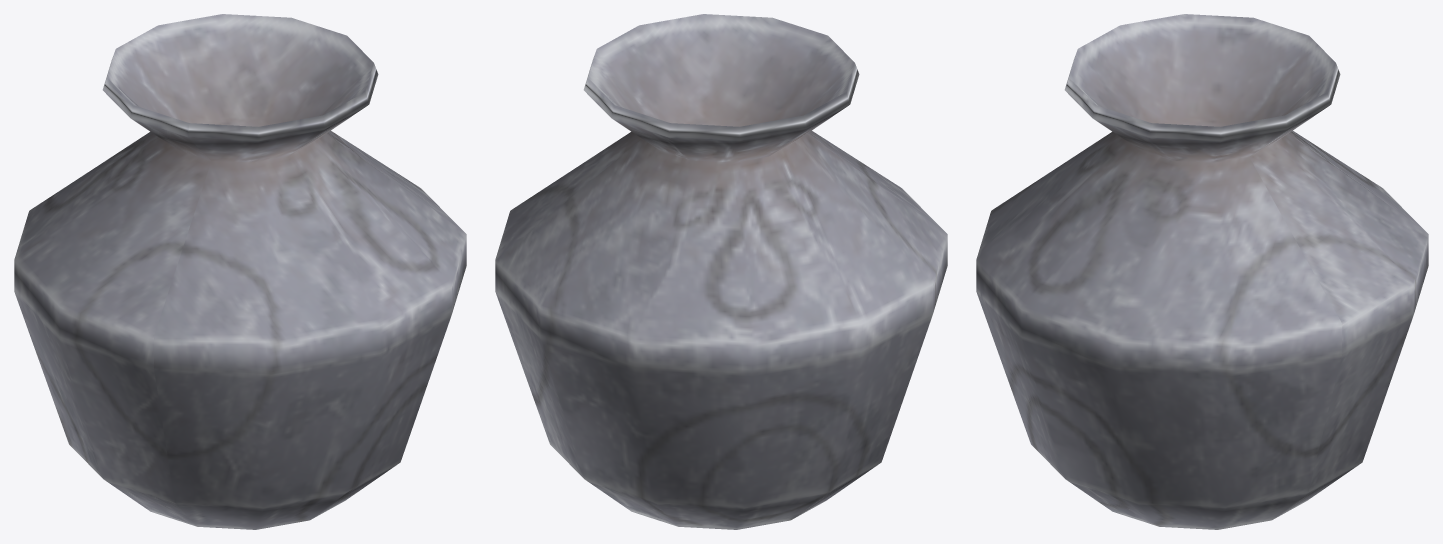
Rendered from Asset_VaseRond_01.fbx.
3 renders of one model, left to right at view 1: azimuth 30°, elevation 25°; view 2: azimuth 150°, elevation 25°; view 3: azimuth 270°, elevation 25°, orthographic.
Parts seen in each view (by area): view 1: Asset_VaseRond_01; view 2: Asset_VaseRond_01; view 3: Asset_VaseRond_01.
Boxes of the visible parts, x1,y1,x2,y2 form: Asset_VaseRond_01: (14,14,466,529); Asset_VaseRond_01: (495,14,947,529); Asset_VaseRond_01: (976,14,1428,529).
Bounding box in the file's own units: 194 × 195 × 194.
